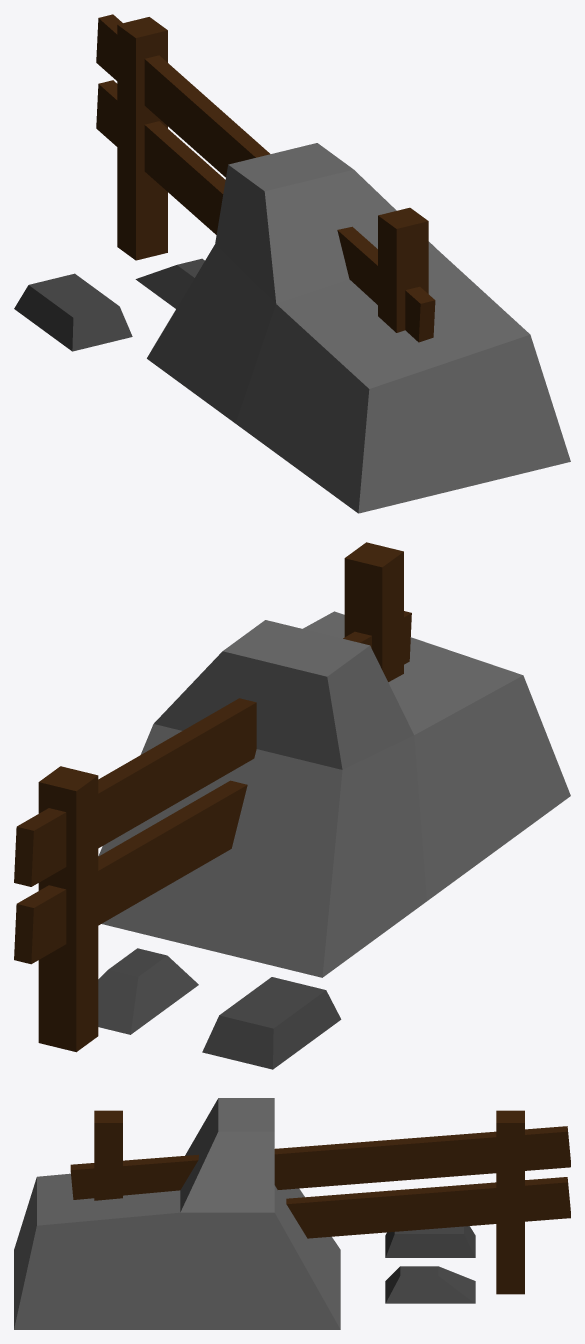
The model's file is stuff.fbx.
The picture shows the model from 3 angles, top to bottom: view 1: azimuth 30°, elevation 25°; view 2: azimuth 150°, elevation 25°; view 3: azimuth 270°, elevation 25°; orthographic projection. The views are drawn at different scales.
Parts seen in each view (by area): view 1: kivi, fence, Cube.001, Cube; view 2: kivi, fence, Cube.001, Cube; view 3: kivi, fence, Cube, Cube.001.
Boxes of the visible parts, x1,y1,x2,y2 form: kivi: [147, 143, 570, 513]; fence: [96, 14, 435, 342]; Cube.001: [14, 273, 132, 351]; Cube: [135, 258, 204, 308]; kivi: [98, 611, 570, 977]; fence: [14, 542, 411, 1052]; Cube.001: [202, 977, 341, 1069]; Cube: [98, 948, 198, 1034]; kivi: [14, 1098, 340, 1329]; fence: [70, 1110, 570, 1294]; Cube: [385, 1266, 475, 1303]; Cube.001: [385, 1226, 475, 1257].
Bounding box in the file's own units: 589 × 243 × 205.
